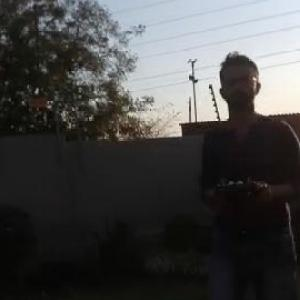follow: (191, 43, 299, 299)
